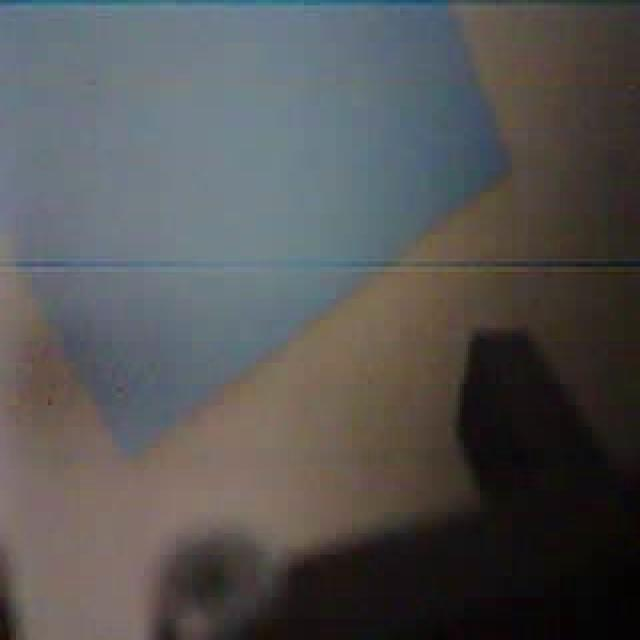blue_box: (3, 5, 523, 453)
